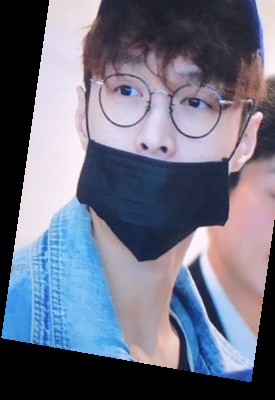mask_weared_incorrect: (70, 1, 268, 269)
